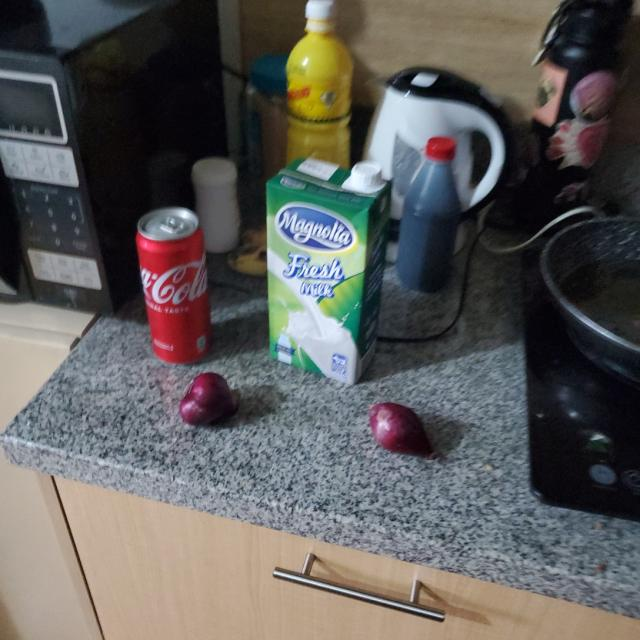coke: (135, 202, 208, 363)
milk: (267, 157, 397, 379)
onion: (367, 400, 435, 459), (178, 369, 236, 424)
